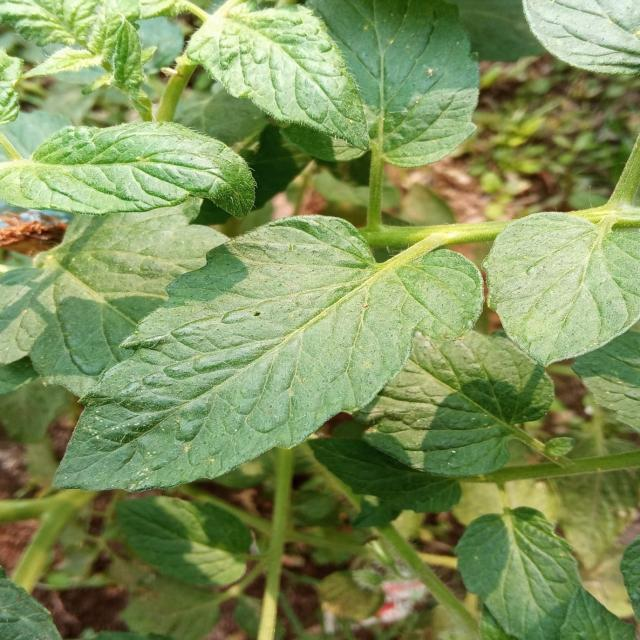Healthy: (0, 140, 508, 557), (346, 292, 568, 517), (177, 0, 411, 165), (307, 0, 511, 182), (436, 483, 611, 640), (0, 120, 255, 217), (482, 211, 640, 367)
